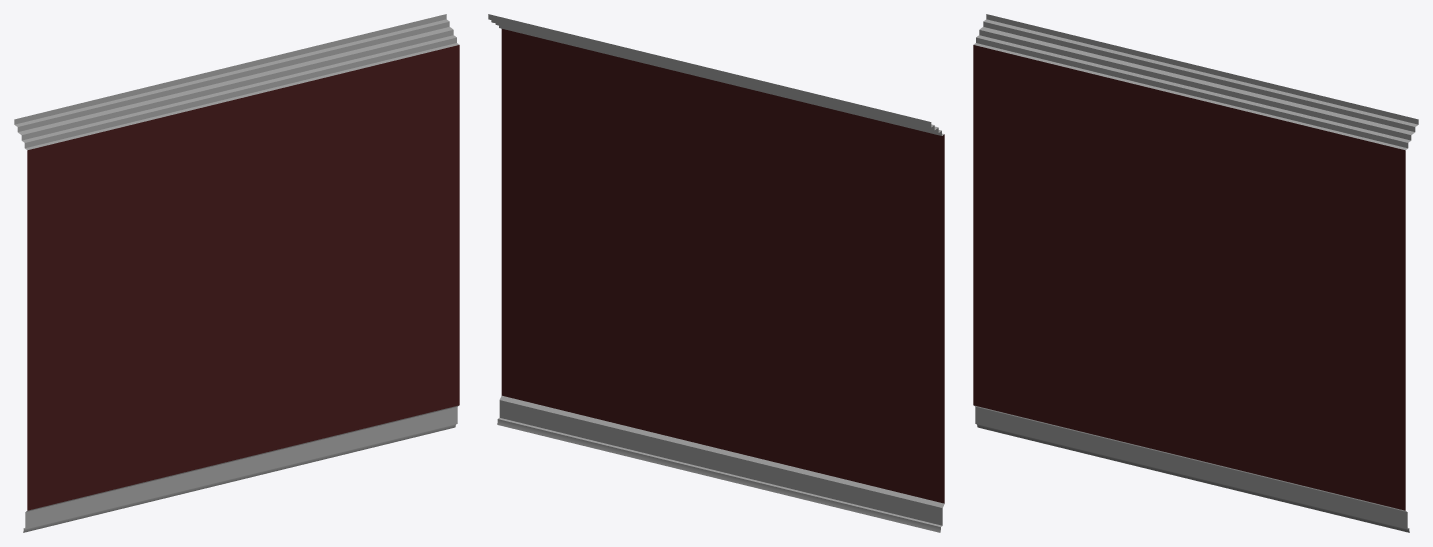
File: ContemporaryOneSideWall.fbx
3 views of the same model, side by side, from view 1: azimuth 30°, elevation 25°; view 2: azimuth 150°, elevation 25°; view 3: azimuth 330°, elevation 25° (orthographic). The views are drawn at different scales.
Parts seen in each view (by area): view 1: WallOneSide2; view 2: WallOneSide2; view 3: WallOneSide2.
Boxes of the visible parts, x1,y1,x2,y2 form: WallOneSide2: (14,14,459,532); WallOneSide2: (488,14,944,532); WallOneSide2: (973,14,1418,532).
Bounding box in the file's own units: 4 × 3.6 × 0.2093.
